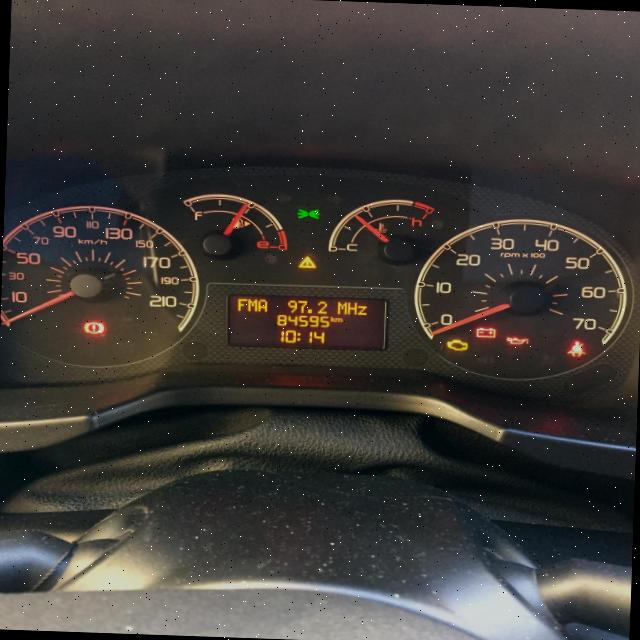odometer: (228, 288, 390, 354)
